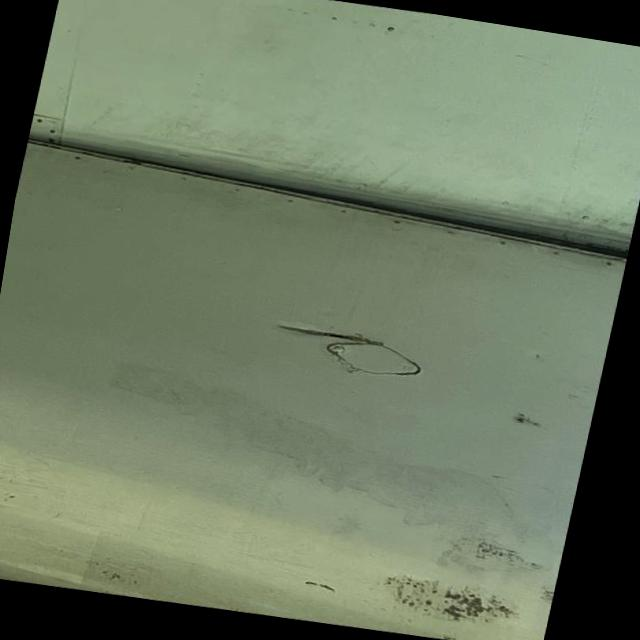crack: (272, 318, 380, 350)
